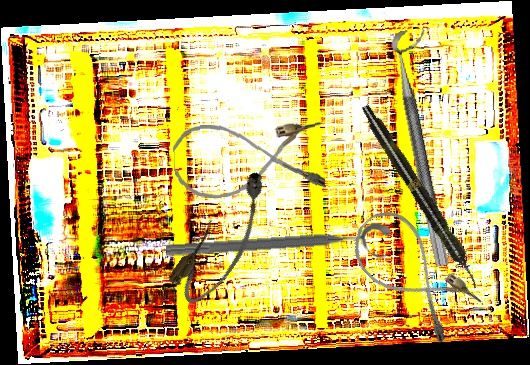Cannula: (340, 200, 485, 347), (163, 164, 287, 312), (172, 119, 326, 200)
Fixation Ring: (388, 26, 470, 268), (164, 222, 393, 276)
Handpiece: (356, 101, 486, 292)
